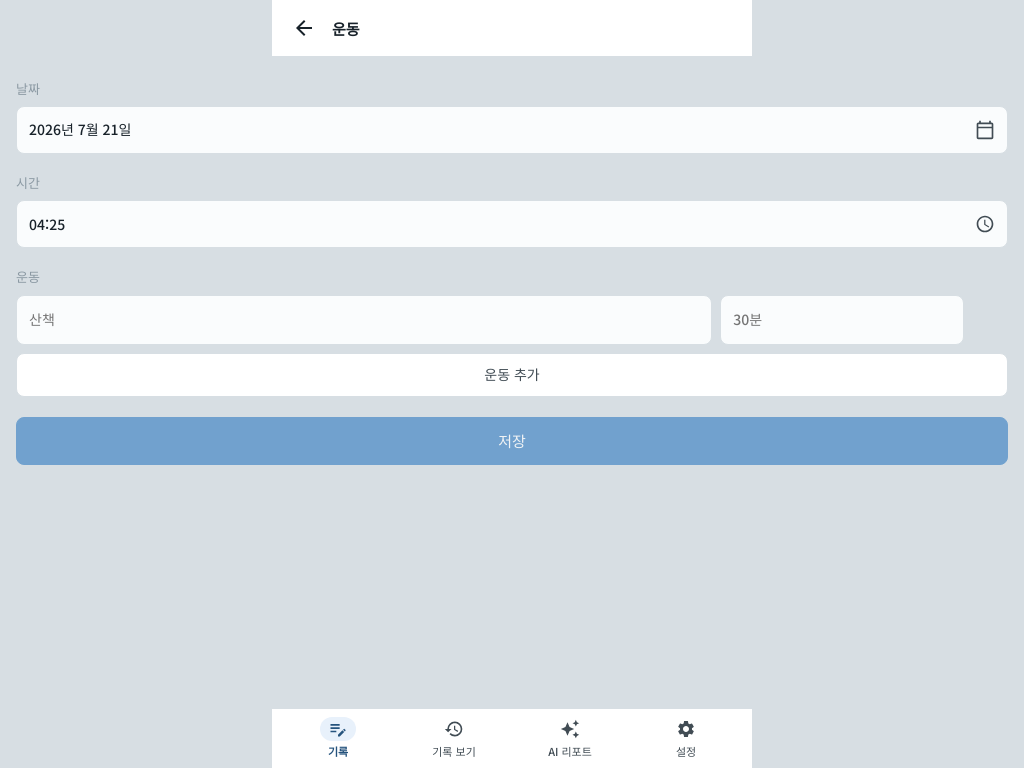
Test: ExercisePageClient › adds and removes an exercise input
Click the button "운동 추가" at (512, 375), box [16,353,1008,397]
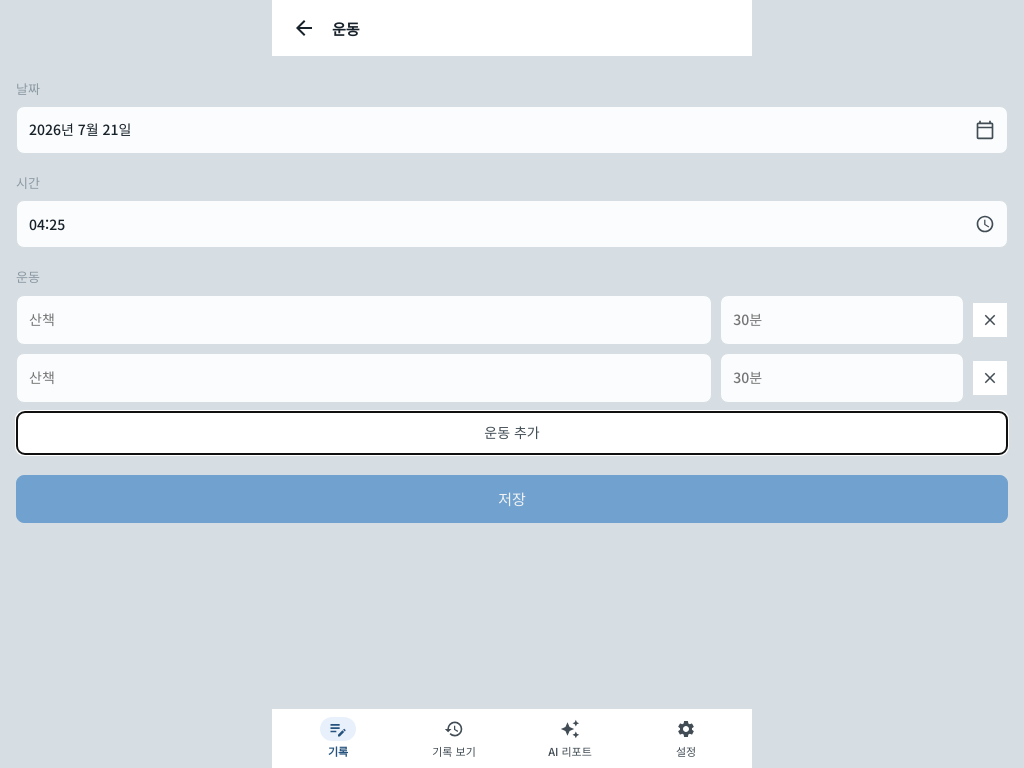
Result: the number of fields named "운동 이름" is 2 at [17,296,711,344]; [17,354,711,402]
Result: the number of buttons named "운동 삭제" is 2
Click the 2nd button named "운동 삭제" at (990, 378), box [972,360,1008,396]
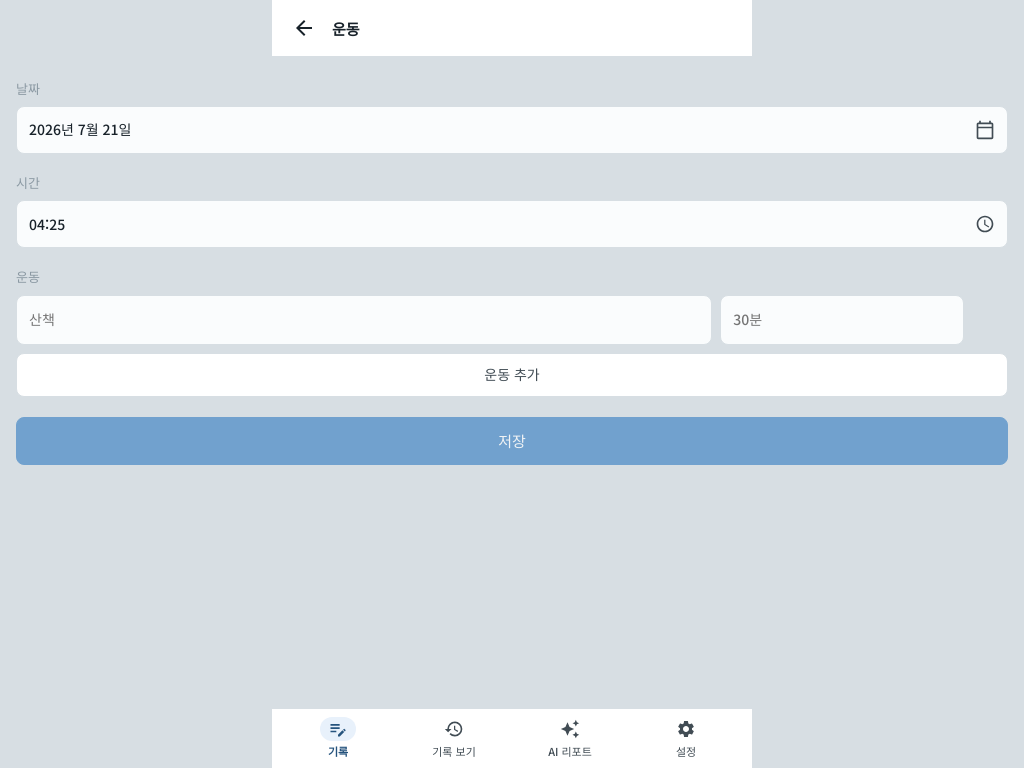
Result: the number of fields named "운동 이름" is 1 at [17,296,711,344]
